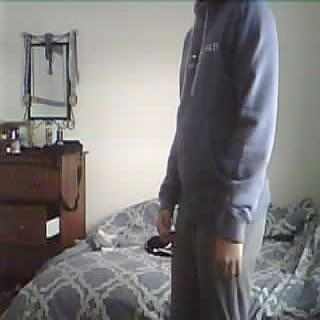Blue Hoodie: (159, 5, 288, 219)
Gray Sweatpants: (172, 213, 264, 320)
